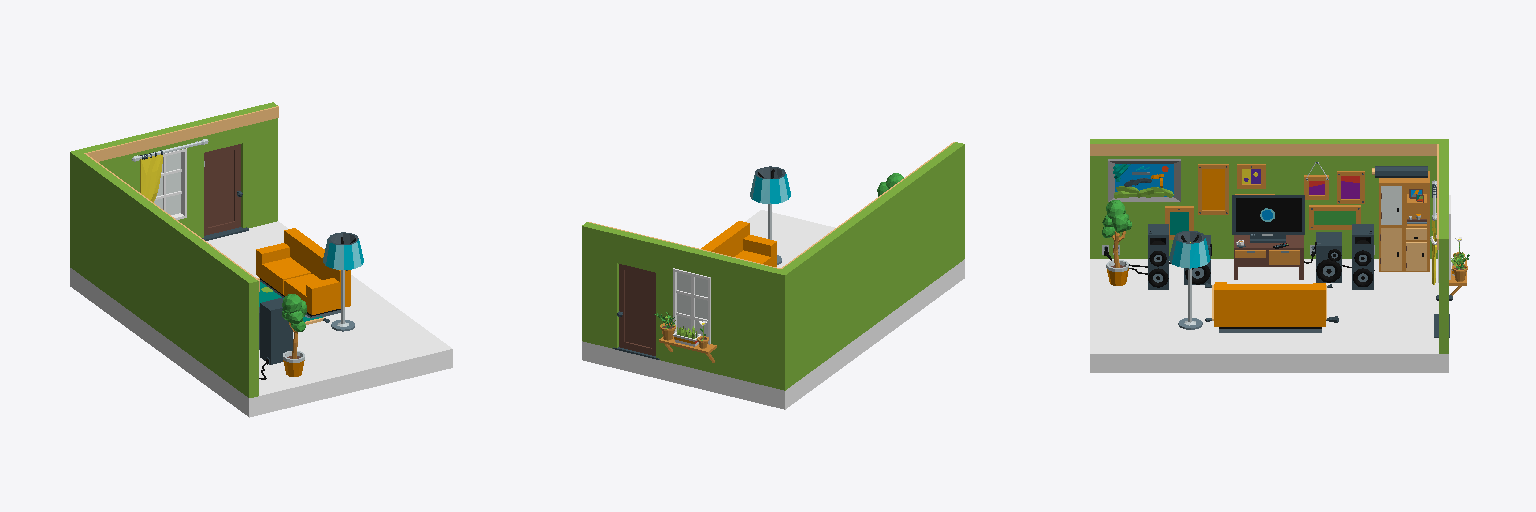
File: Living_room.obj
3 views of the same model, side by side, from view 1: azimuth 30°, elevation 25°; view 2: azimuth 150°, elevation 25°; view 3: azimuth 270°, elevation 25° (orthographic).
Parts seen in each view (by area): view 1: group[number redacted], group[number redacted], group[number redacted], group[number redacted], group[number redacted], group[number redacted], group[number redacted], group[number redacted], group[number redacted], group[number redacted]; view 2: group[number redacted], group[number redacted], group[number redacted], group[number redacted], group[number redacted], group[number redacted], group[number redacted]; view 3: group[number redacted], group[number redacted], group[number redacted], group[number redacted], group[number redacted], group[number redacted], group[number redacted], group[number redacted], group[number redacted], group[number redacted], group[number redacted], group[number redacted] (+11 smaller).
Boxes of the visible parts, <box> form: group[number redacted]: <box>70,150,259,397</box>; group[number redacted]: <box>70,221,452,417</box>; group[number redacted]: <box>79,102,278,237</box>; group[number redacted]: <box>256,228,350,318</box>; group[number redacted]: <box>204,144,242,235</box>; group[number redacted]: <box>154,148,186,219</box>; group[number redacted]: <box>260,298,292,364</box>; group[number redacted]: <box>323,232,363,331</box>; group[number redacted]: <box>282,294,306,376</box>; group[number redacted]: <box>132,139,208,202</box>; group[number redacted]: <box>776,142,964,390</box>; group[number redacted]: <box>582,222,780,387</box>; group[number redacted]: <box>582,210,964,409</box>; group[number redacted]: <box>617,264,655,355</box>; group[number redacted]: <box>673,268,710,344</box>; group[number redacted]: <box>701,221,776,266</box>; group[number redacted]: <box>750,166,790,264</box>; group[number redacted]: <box>1090,259,1448,372</box>; group[number redacted]: <box>1090,139,1448,258</box>; group[number redacted]: <box>1214,282,1325,332</box>; group[number redacted]: <box>1232,195,1304,242</box>; group[number redacted]: <box>1108,159,1180,201</box>; group[number redacted]: <box>1437,144,1448,353</box>; group[number redacted]: <box>1234,235,1303,279</box>; group[number redacted]: <box>1379,171,1429,271</box>; group[number redacted]: <box>1168,231,1210,329</box>; group[number redacted]: <box>1198,164,1228,214</box>; group[number redacted]: <box>1352,224,1373,289</box>; group[number redacted]: <box>1102,200,1131,285</box>.
Bounding box in the file's own units: 2.68 × 1.69 × 4.34.